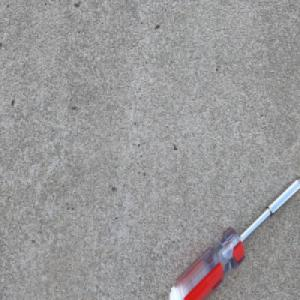Screwdriver: (166, 175, 300, 300)
